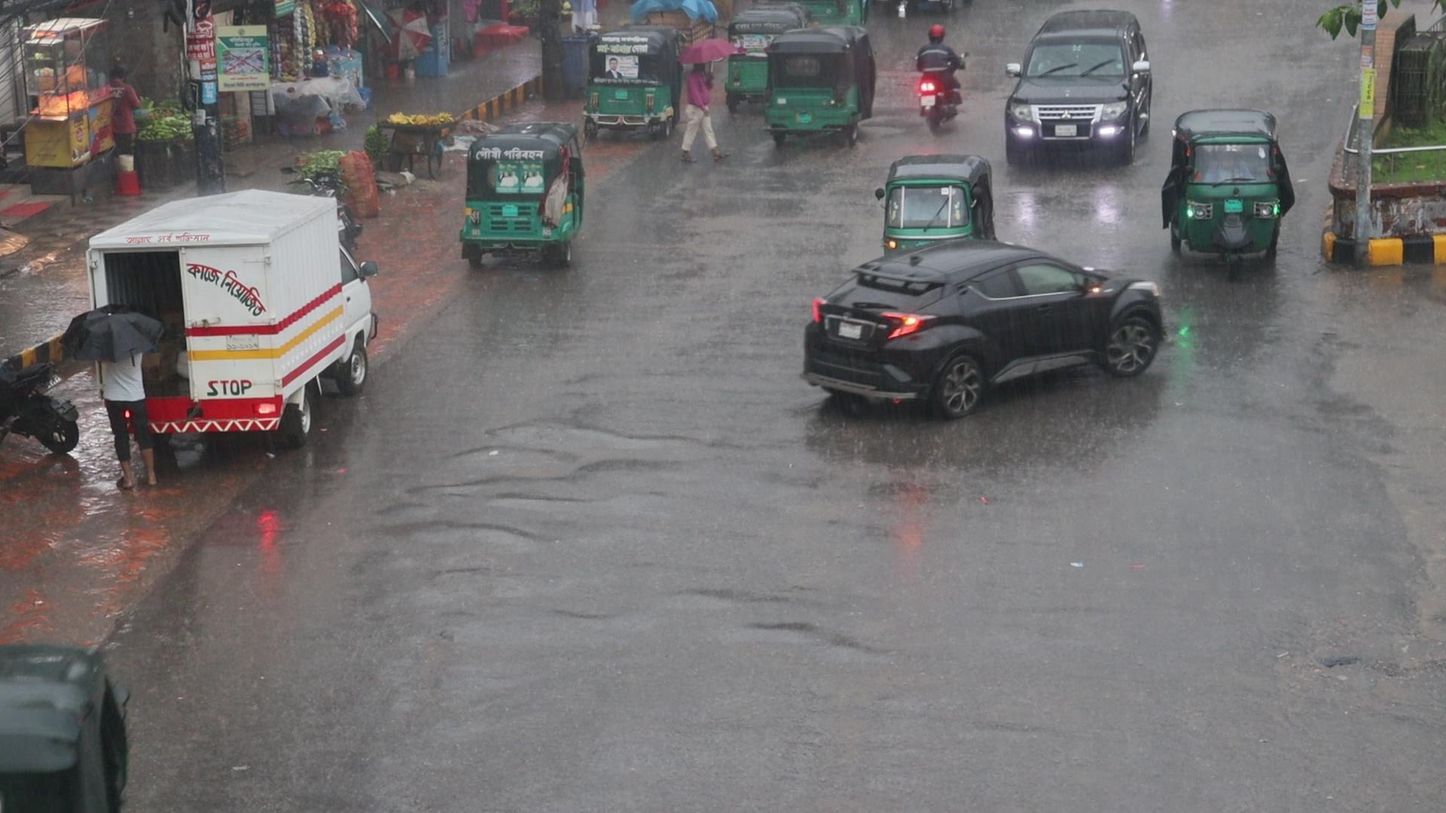Bike: (911, 18, 964, 131)
Car: (799, 238, 1166, 420), (1004, 6, 1154, 165)
